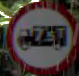Heavy Vehicles: (7, 0, 77, 75)
